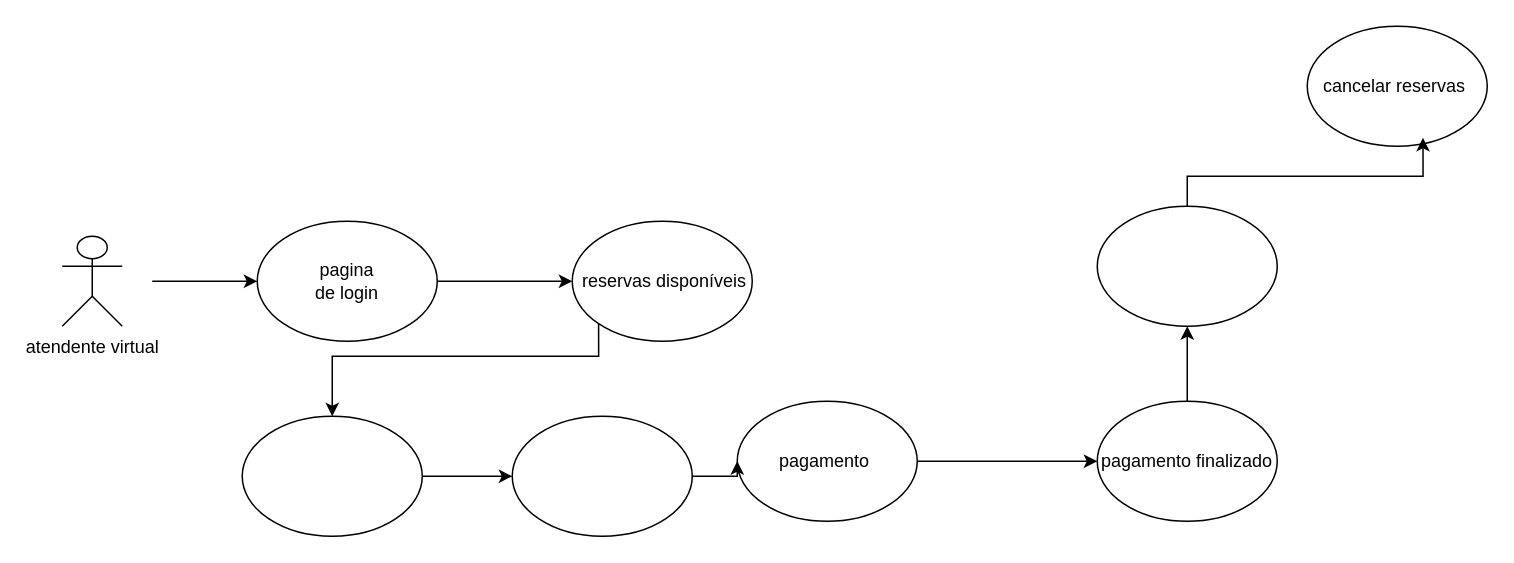
This 1514x563 diagram has some shape labels left out. The centre of each missing label's shape, as x and y in pixels:
horário disponível para essa reserva: pixel 331 475
reservas concluidas: pixel 1186 265
selecionar reserva: pixel 601 475
